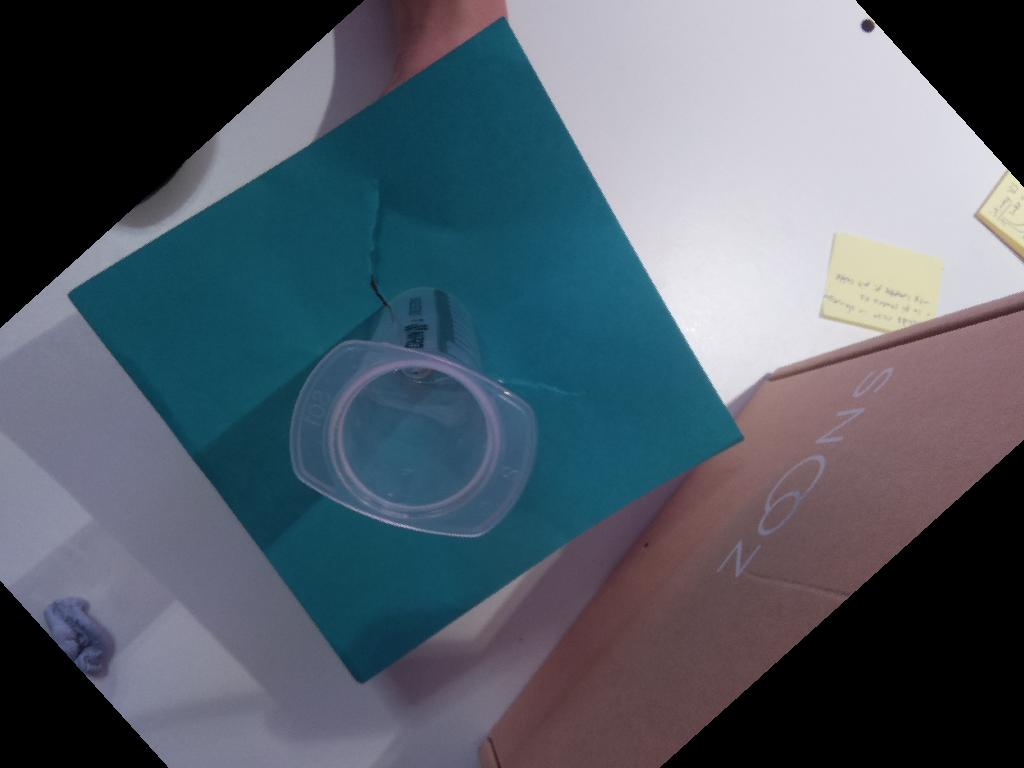clean: (287, 337, 539, 541)
